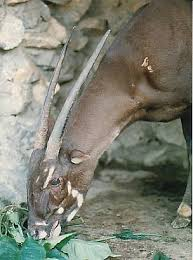sao_la: (26, 25, 193, 241)
